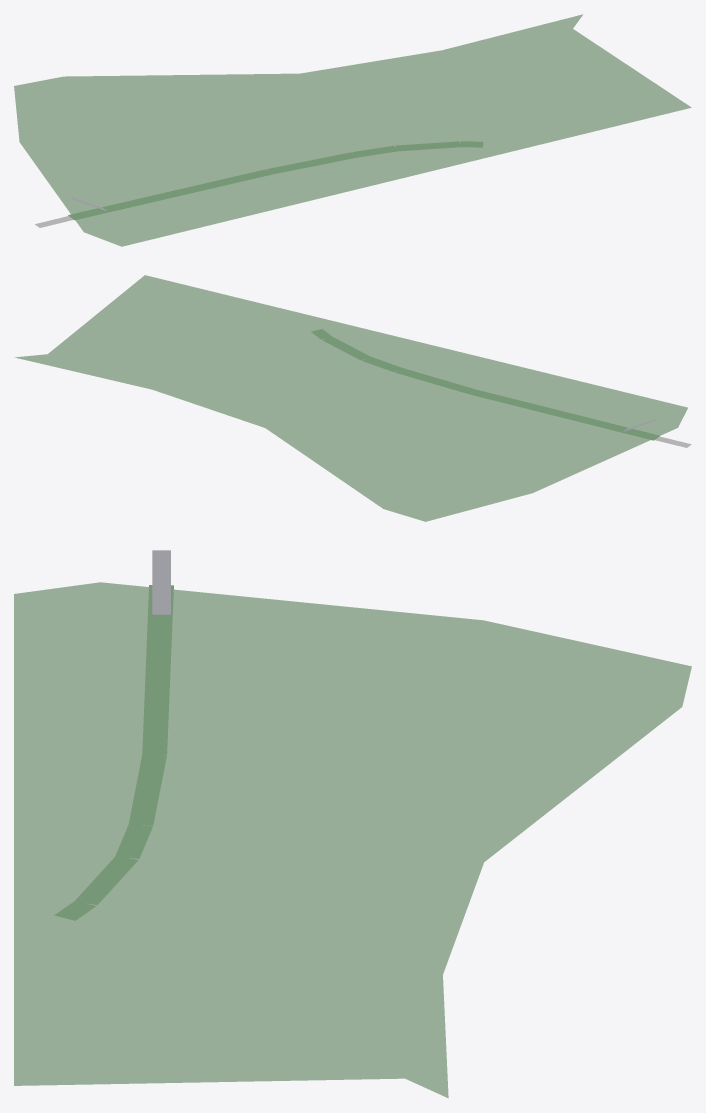
The picture shows the model from 3 angles, top to bottom: view 1: azimuth 30°, elevation 25°; view 2: azimuth 150°, elevation 25°; view 3: azimuth 270°, elevation 25°; orthographic projection. The views are drawn at different scales.
Bounding box in the file's own units: 206 × 6.47 × 109.
